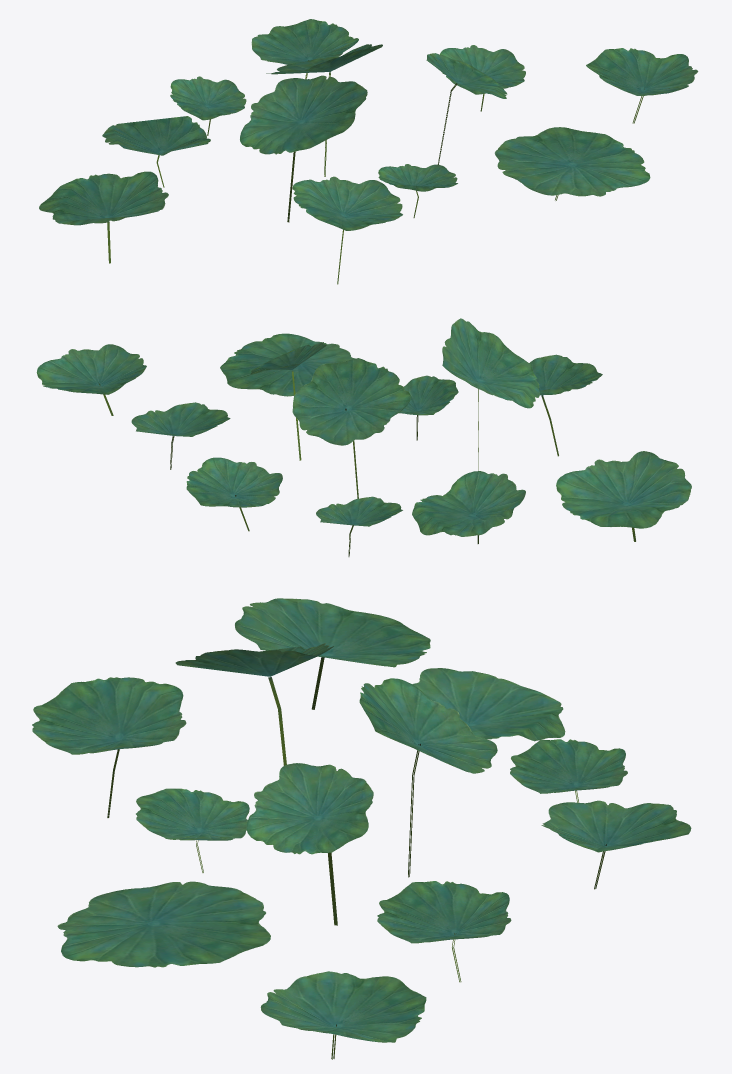
File: hehua_yunmeng_02.FBX
The picture shows the model from 3 angles, top to bottom: view 1: azimuth 30°, elevation 25°; view 2: azimuth 150°, elevation 25°; view 3: azimuth 270°, elevation 25°; orthographic projection. The views are drawn at different scales.
Parts seen in each view (by area): view 1: Mesh_0032; view 2: Mesh_0032; view 3: Mesh_0032.
Part boxes in pixels (x1=…): Mesh_0032: x1=39, y1=19, x2=698, y2=284; Mesh_0032: x1=36, y1=318, x2=691, y2=556; Mesh_0032: x1=32, y1=598, x2=691, y2=1059.
Bounding box in the file's own units: 729 × 179 × 493.
